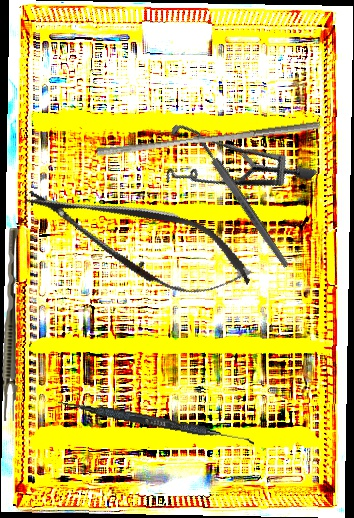Micro Scissor: (14, 161, 263, 317)
Pusher: (96, 112, 321, 165)
Scalpel Handle: (194, 133, 291, 270)
Spatula Surgical: (56, 398, 256, 446)
Speculum: (142, 79, 319, 253)
Tissue Forceps: (2, 228, 19, 421)
